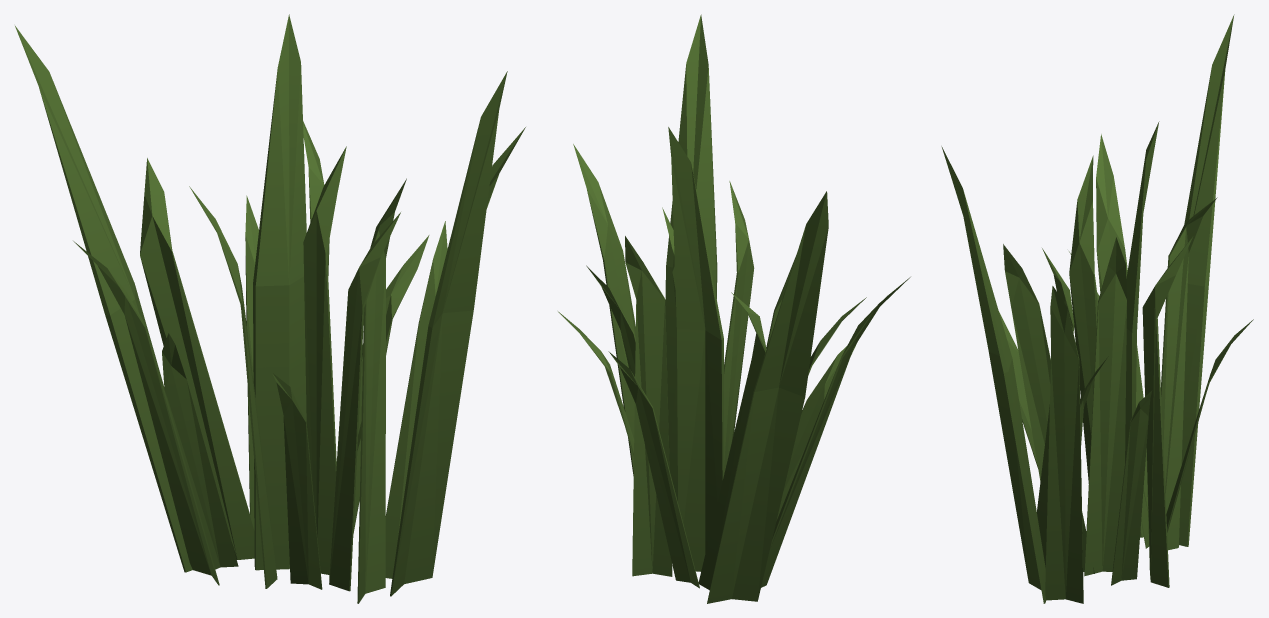
The model's file is Env_Grass_Patch_Green_03.obj.
3 renders of one model, left to right at view 1: azimuth 30°, elevation 25°; view 2: azimuth 150°, elevation 25°; view 3: azimuth 270°, elevation 25°, orthographic. The views are drawn at different scales.
Visible parts, largest first — view 1: Env_Grass_Patch_Green_03; view 2: Env_Grass_Patch_Green_03; view 3: Env_Grass_Patch_Green_03.
Boxes of the visible parts, x1,y1,x2,y2 form: Env_Grass_Patch_Green_03: (15, 14, 525, 603); Env_Grass_Patch_Green_03: (558, 14, 910, 603); Env_Grass_Patch_Green_03: (941, 14, 1253, 603).
Bounding box in the file's own units: 0.3022 × 0.3709 × 0.2268.
1 material, 1 textured.
